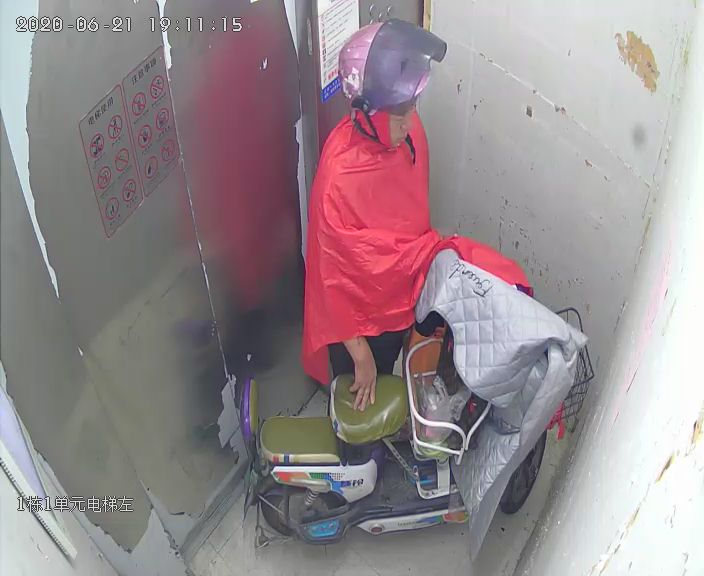Electric-bicycle: (244, 246, 592, 546)
